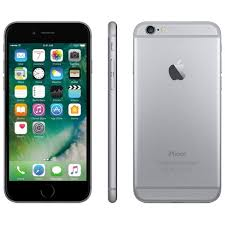iphone: (1, 16, 96, 203), (130, 16, 225, 203)
iphone6: (130, 18, 225, 205), (1, 17, 94, 204)
